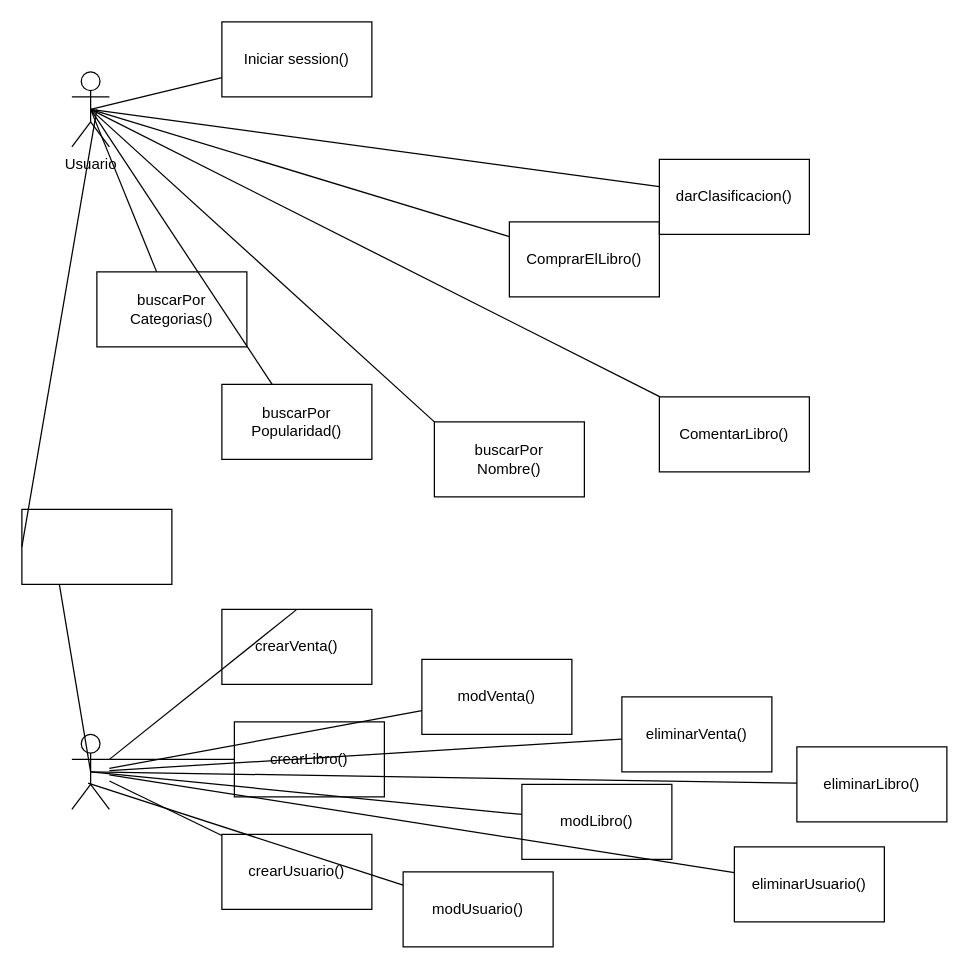
Some shapes in this 969 by 969 pixel diagram are drawn without their labels. The shapes that lost their labels are listed below. From the top down, each one's box as (x1, y1, x2, y2) in pixels, then its label:
(21, 508, 172, 584): Logearse()
(71, 733, 109, 809): Empleado
